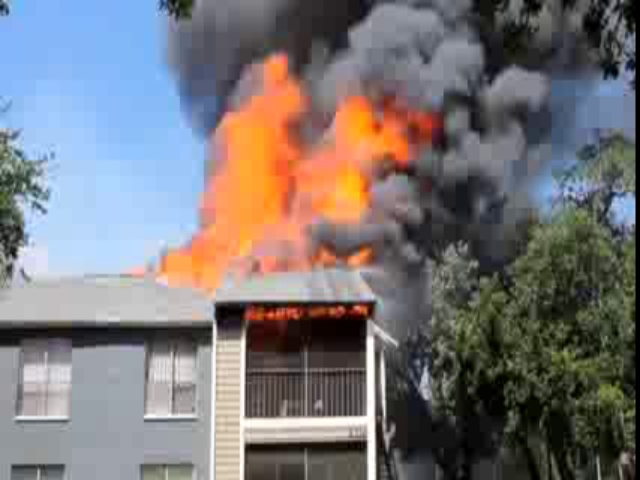fire: (160, 53, 389, 286)
